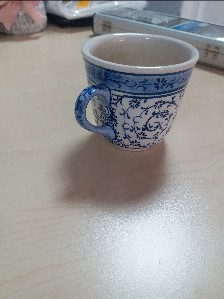cup: (76, 30, 200, 157)
